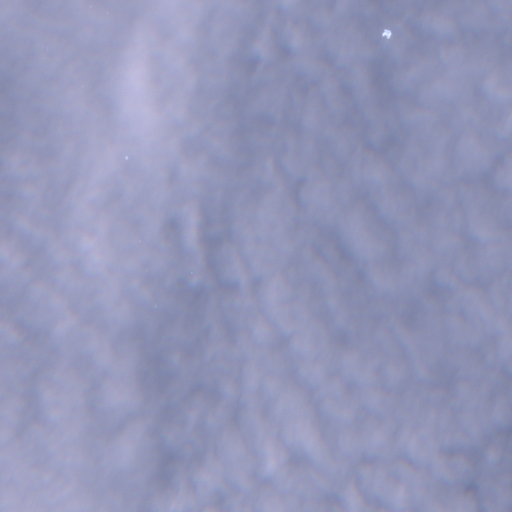Iceberg: (382, 30, 390, 38), (126, 156, 127, 159)
